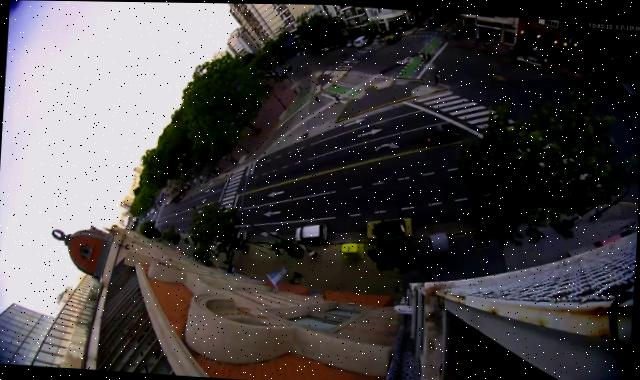bus: (171, 188, 185, 203)
car: (367, 214, 414, 241), (423, 122, 459, 146), (295, 221, 328, 243), (516, 53, 543, 68), (601, 68, 626, 81), (566, 67, 588, 80), (354, 35, 369, 48), (386, 33, 400, 44), (428, 11, 438, 20), (237, 230, 247, 239), (346, 40, 352, 47), (285, 64, 292, 70), (296, 49, 302, 55), (324, 45, 329, 50), (151, 208, 156, 213), (335, 43, 341, 47), (320, 47, 324, 51), (330, 44, 334, 48), (162, 202, 166, 206), (168, 198, 172, 202), (353, 40, 355, 46), (302, 50, 306, 53), (166, 200, 169, 204)
